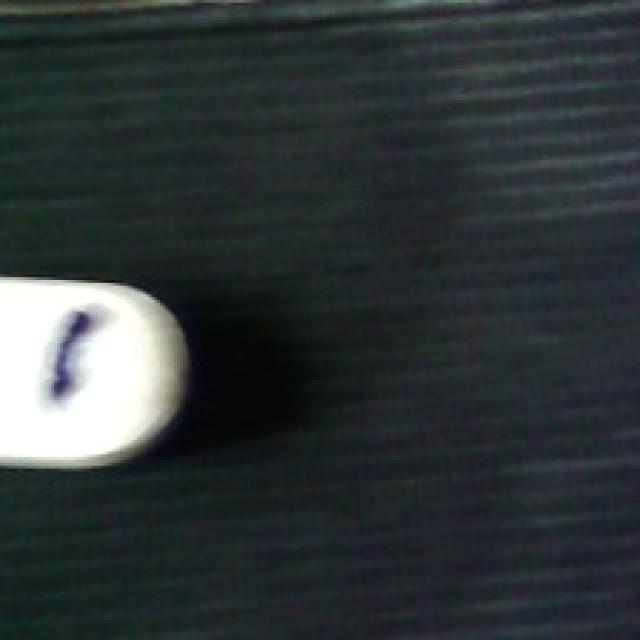defected: (3, 272, 200, 472)
